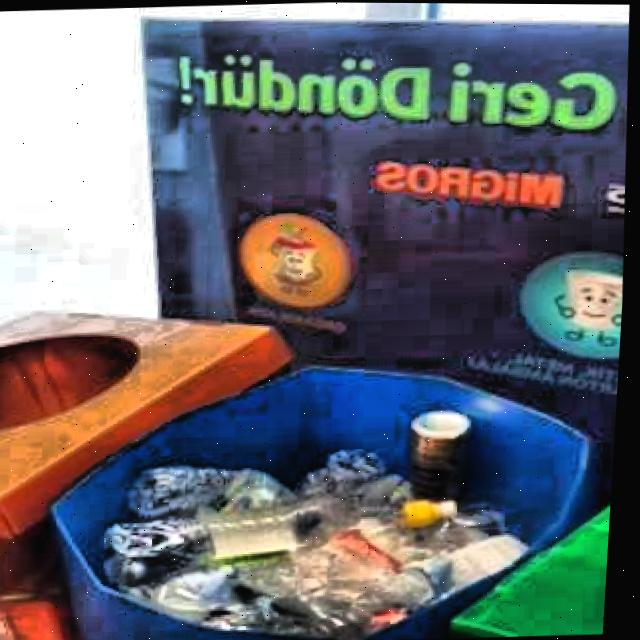metal: (416, 412, 477, 500)
